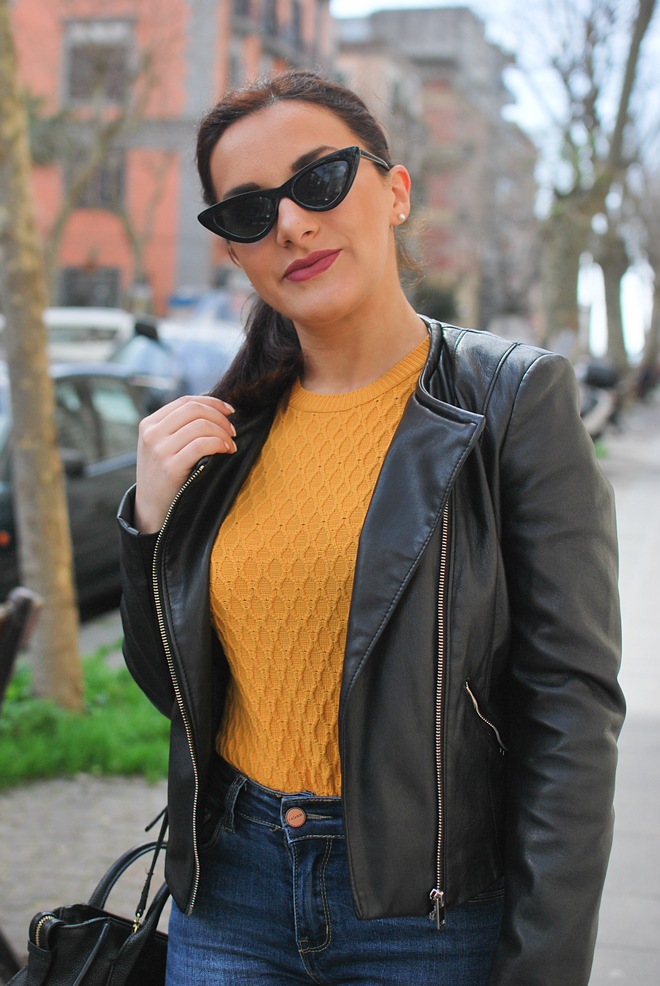jeans: (159, 753, 499, 983)
sunglasses: (180, 151, 368, 237)
